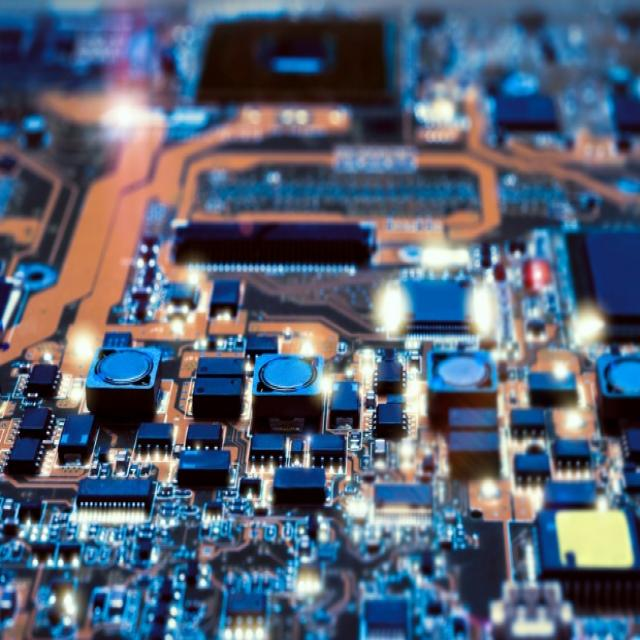hazard: (0, 0, 640, 608)
